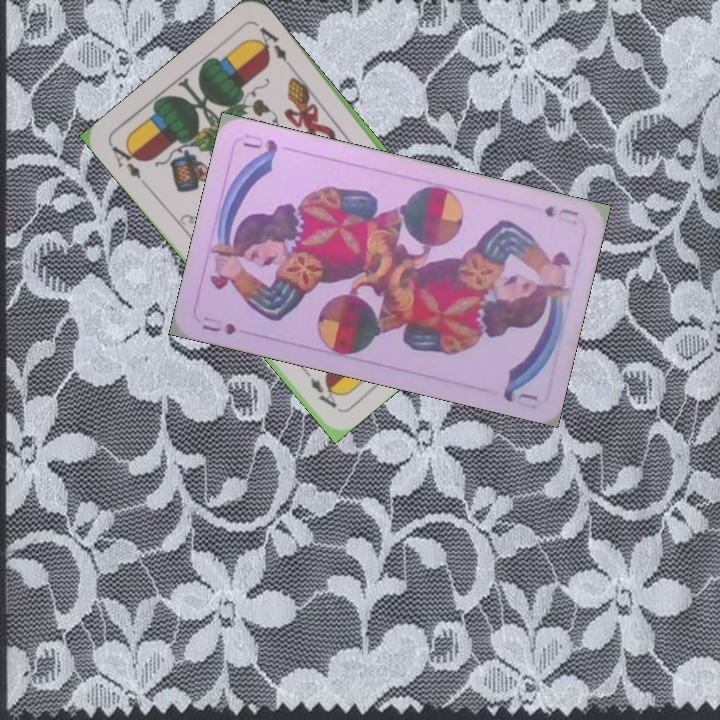EA: (106, 137, 151, 190)
SU: (540, 201, 581, 228), (198, 312, 239, 337)
